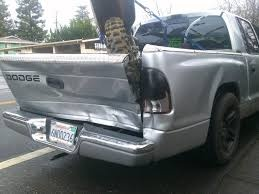Smashed: (4, 53, 160, 153)
